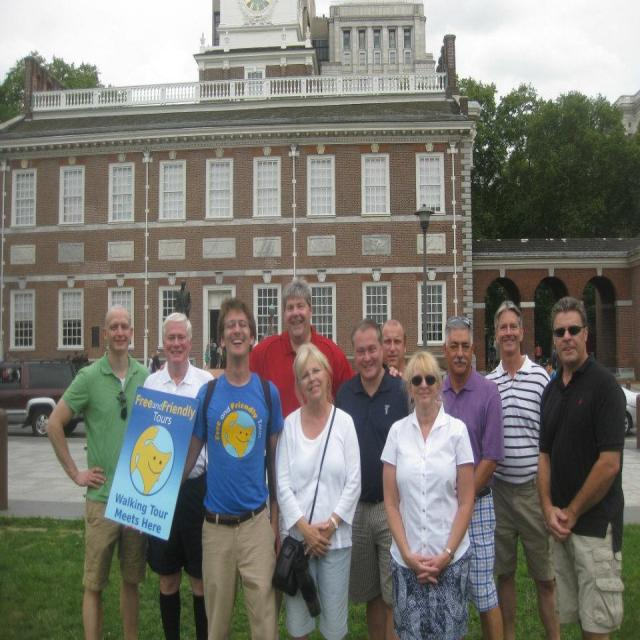body: (45, 299, 151, 640), (180, 294, 284, 640), (537, 293, 629, 639), (379, 349, 475, 639), (484, 298, 562, 640), (271, 340, 360, 639), (334, 315, 412, 640), (140, 309, 216, 639), (440, 313, 508, 640), (250, 277, 358, 423), (380, 318, 410, 381), (172, 276, 192, 319), (0, 359, 23, 385), (64, 350, 90, 367), (542, 356, 558, 382), (151, 346, 161, 378), (208, 337, 217, 371), (202, 340, 212, 370), (215, 341, 223, 370), (534, 342, 543, 366), (148, 353, 155, 376)
